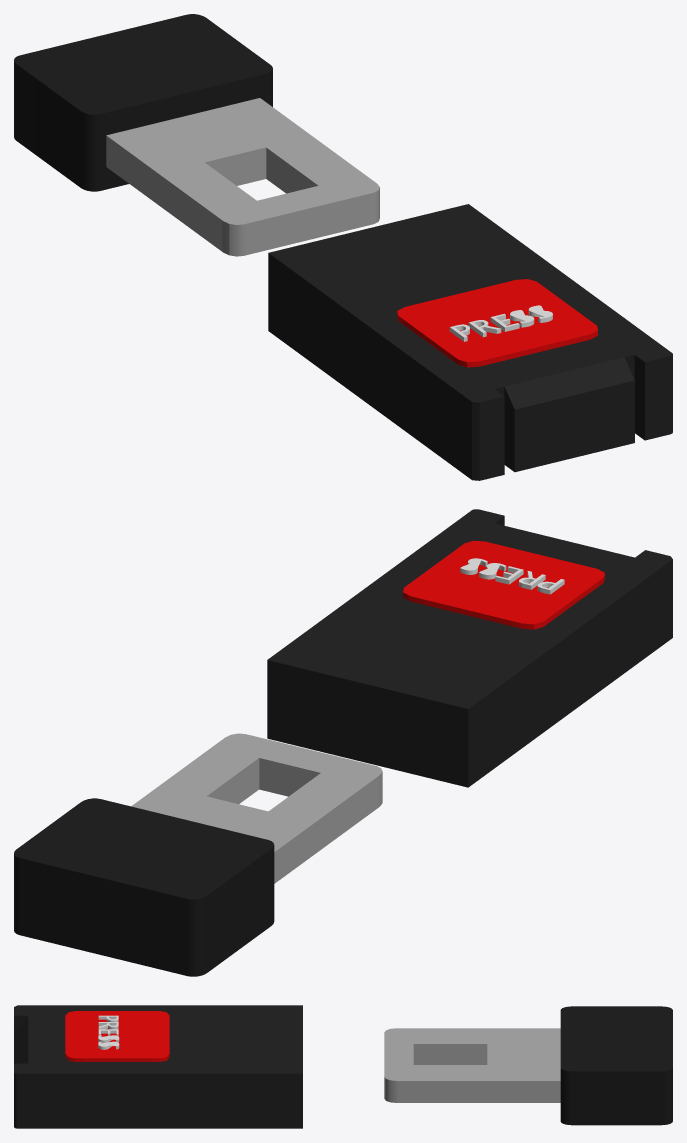
Rendered from seatBeltLatch.fbx.
3 views of the same model, one above another, from view 1: azimuth 30°, elevation 25°; view 2: azimuth 150°, elevation 25°; view 3: azimuth 270°, elevation 25° (orthographic). The views are drawn at different scales.
Visible parts, largest first — view 1: polySurface14, pCube5, typeMesh1; view 2: polySurface14, pCube5, typeMesh1; view 3: polySurface14, pCube5, typeMesh1.
Part boxes in pixels (x1,y1,x2,y2): polySurface14: (268,204,672,480); pCube5: (14,14,379,256); typeMesh1: (449,305,552,341); polySurface14: (267,509,672,787); pCube5: (14,733,382,976); typeMesh1: (460,558,564,594); polySurface14: (14,1005,302,1128); pCube5: (384,1006,672,1125); typeMesh1: (98,1015,119,1049).
Bounding box in the file's own units: 1 × 0.4205 × 4.07.
